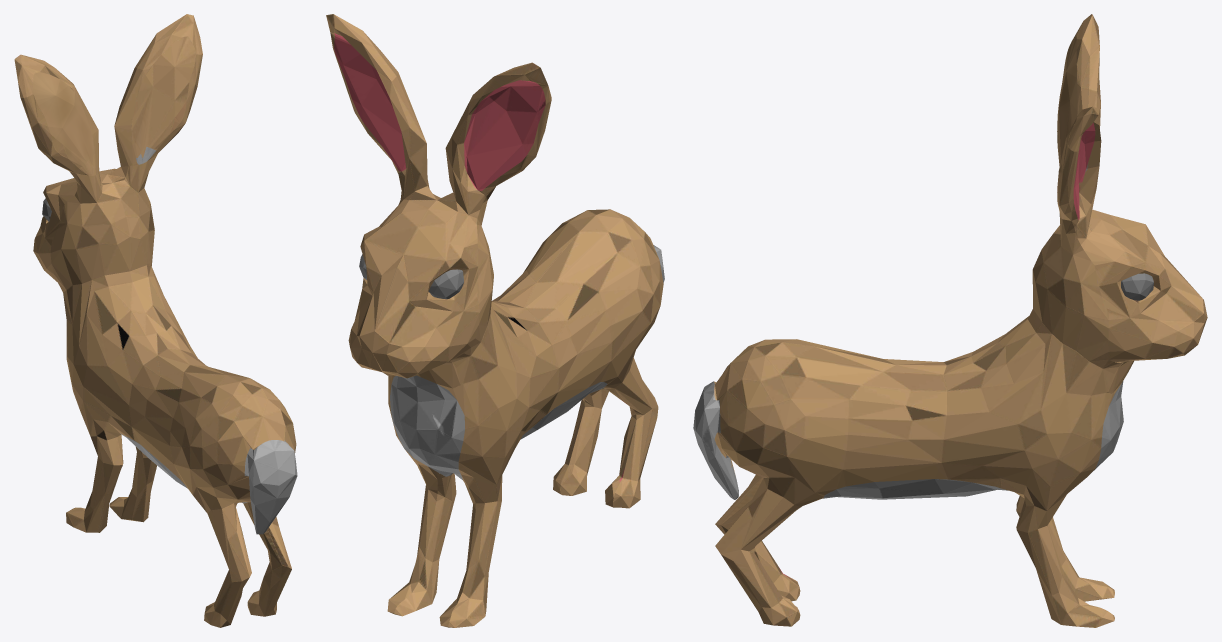
Rendered from conejoNoSmooth.fbx.
3 renders of one model, left to right at view 1: azimuth 30°, elevation 25°; view 2: azimuth 150°, elevation 25°; view 3: azimuth 270°, elevation 25°, orthographic. The views are drawn at different scales.
Parts seen in each view (by area): view 1: conejo_2; view 2: conejo_2, PM3D_Sphere3D3; view 3: conejo_2, PM3D_Sphere3D2.
Part boxes in pixels (x1,y1,x2,y2): conejo_2: (14,14,297,627); conejo_2: (326,14,664,627); PM3D_Sphere3D3: (428,269,463,299); conejo_2: (693,14,1207,627); PM3D_Sphere3D2: (1121,273,1153,300).
Bounding box in the file's own units: 3.72 × 9.41 × 8.
